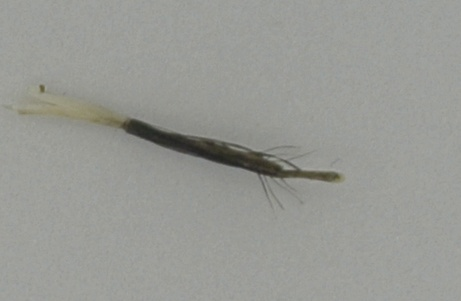เมล้ดปลายพู่กัน: (1, 85, 348, 214)
